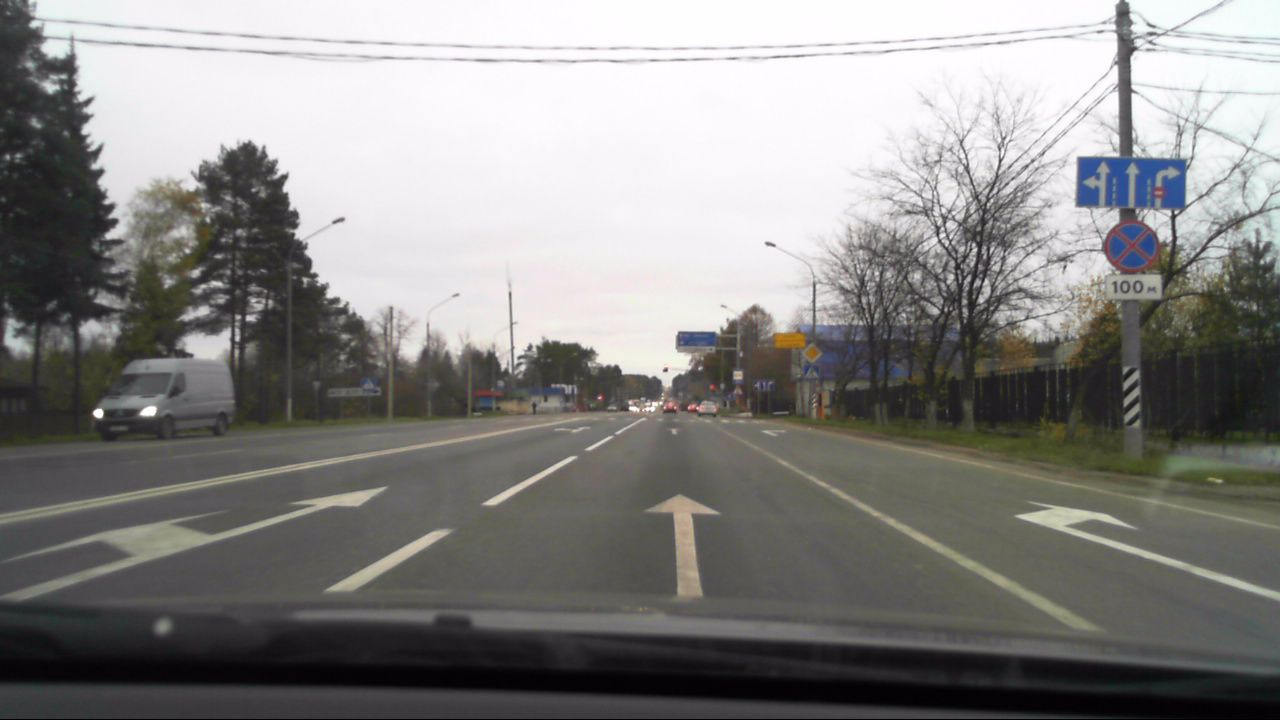No Parking: (1103, 220, 1159, 274)
